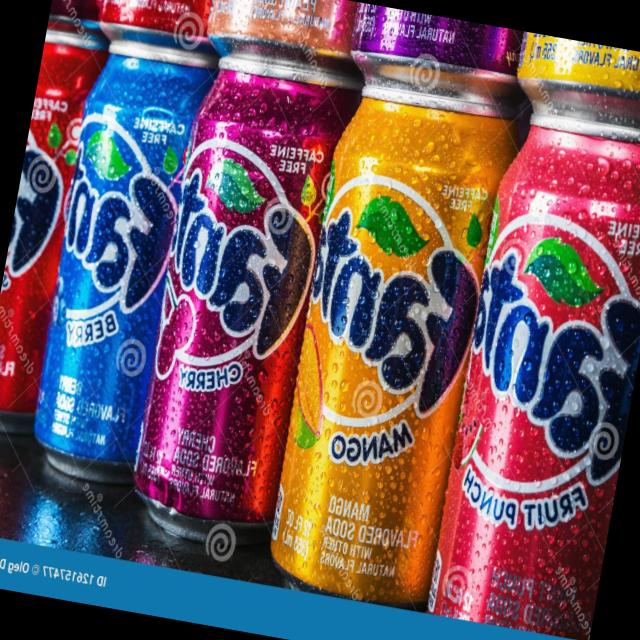fanta: (256, 70, 532, 608)
